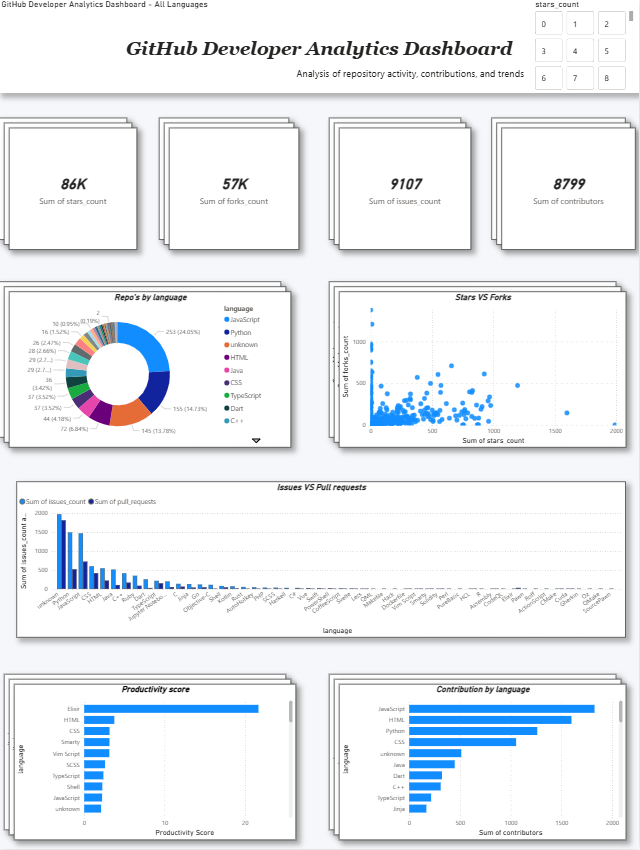

Layout of this report page (visuals, bound fields, positions):
{"tool":"powerbi","page":{"name":"Overview","canvas":[1280,1700],"ordinal":0},"visuals":[{"type":"pythonVisual","box":[1266,534,14,686],"z":0},{"type":"card","fields":{"Values":["Sum(github_dataset (2).stars_count)"]},"box":[0,237,256.1,243.8],"z":1000},{"type":"card","fields":{"Values":["Sum(github_dataset (2).forks_count)"]},"box":[320.1,237,260.1,243.8],"z":2000},{"type":"card","fields":{"Values":["Sum(github_dataset (2).contributors)"]},"box":[986.1,237,268.3,243.8],"z":3000},{"type":"card","fields":{"Values":["Sum(github_dataset (2).issues_count)"]},"box":[659.2,237,264.2,243.8],"z":4000},{"type":"textbox","box":[0,0,1280.3,188],"z":5000},{"type":"card","fields":{"Values":["Sum(github_dataset (2).contributors)"]},"box":[996.1,247,268.3,243.8],"z":6000},{"type":"card","fields":{"Values":["Sum(github_dataset (2).contributors)"]},"box":[1006.1,257,268.3,243.8],"z":7000},{"type":"card","fields":{"Values":["Sum(github_dataset (2).issues_count)"]},"box":[669.2,247,264.2,243.8],"z":8000},{"type":"card","fields":{"Values":["Sum(github_dataset (2).issues_count)"]},"box":[679.2,257,264.2,243.8],"z":9000},{"type":"card","fields":{"Values":["Sum(github_dataset (2).forks_count)"]},"box":[330.1,247,260.1,243.8],"z":10000},{"type":"card","fields":{"Values":["Sum(github_dataset (2).forks_count)"]},"box":[340.1,257,260.1,243.8],"z":11000},{"type":"card","fields":{"Values":["Sum(github_dataset (2).stars_count)"]},"box":[10,247,256.1,243.8],"z":12000},{"type":"card","fields":{"Values":["Sum(github_dataset (2).stars_count)"]},"box":[20,257,256.1,243.8],"z":13000},{"type":"donutChart","fields":{"Category":["github_dataset (2).language"],"Y":["CountNonNull(github_dataset (2).language)"]},"box":[0,566,564,312],"z":14000},{"type":"clusteredColumnChart","title":"Issues VS Pull requests ","fields":{"Category":["github_dataset (2).language"],"Y":["Sum(github_dataset (2).issues_count)","Sum(github_dataset (2).pull_requests)"]},"box":[36,964,1218,312],"z":15000},{"type":"scatterChart","fields":{"X":["Sum(github_dataset (2).stars_count)"],"Y":["Sum(github_dataset (2).forks_count)"]},"box":[660,566,574,312],"z":16000},{"type":"barChart","fields":{"Category":["github_dataset (2).repositories"],"Y":["Sum(github_dataset (2).stars_count)"]},"box":[10,1350,564,312],"z":17000},{"type":"barChart","fields":{"Category":["github_dataset (2).language"],"Y":["Sum(github_dataset (2).contributors)"]},"box":[660,1350,574,312],"z":18000},{"type":"advancedSlicerVisual","fields":{"Values":["github_dataset (2).stars_count"]},"box":[1067.2,0,206.3,187.9],"z":19000},{"type":"scatterChart","fields":{"X":["Sum(github_dataset (2).stars_count)"],"Y":["Sum(github_dataset (2).forks_count)"]},"box":[670,576,574,312],"z":20000},{"type":"scatterChart","title":"Stars VS Forks","fields":{"X":["Sum(github_dataset (2).stars_count)"],"Y":["Sum(github_dataset (2).forks_count)"],"Category":["github_dataset (2).repositories"]},"box":[680,586,574,312],"z":21000},{"type":"donutChart","fields":{"Category":["github_dataset (2).language"],"Y":["CountNonNull(github_dataset (2).language)"]},"box":[10,576,564,312],"z":22000},{"type":"donutChart","title":"Repo''s by language","fields":{"Category":["github_dataset (2).language"],"Y":["CountNonNull(github_dataset (2).repositories)"]},"box":[20,586,564,312],"z":23000},{"type":"barChart","fields":{"Category":["github_dataset (2).language"],"Y":["Sum(github_dataset (2).contributors)"]},"box":[670,1360,574,312],"z":24000},{"type":"barChart","title":"Contribution by language","fields":{"Category":["github_dataset (2).language"],"Y":["Sum(github_dataset (2).contributors)"]},"box":[680,1370,574,312],"z":25000},{"type":"barChart","fields":{"Category":["github_dataset (2).repositories"],"Y":["Sum(github_dataset (2).stars_count)"]},"box":[20,1360,564,312],"z":26000},{"type":"clusteredBarChart","title":"Productivity score","fields":{"Category":["github_dataset (2).language"],"Y":["github_dataset (2).Productivity Score"]},"box":[30,1370,564,312],"z":27000},{"type":"actionButton","box":[1179.5,187.8,100.7,39.9],"z":27002},{"type":"actionButton","box":[589.7,187.8,99.7,39.9],"z":27003},{"type":"actionButton","box":[0,187.4,99.3,40.3],"z":27004}]}

Visuals, with their boxes in screenshot pixels (x1, y1, x2, y2):
pythonVisual: pyautogui.locateOnScreen(628, 268, 635, 606)
card - Sum(github_dataset (2).stars_count): pyautogui.locateOnScreen(4, 121, 131, 241)
card - Sum(github_dataset (2).forks_count): pyautogui.locateOnScreen(162, 121, 290, 241)
card - Sum(github_dataset (2).contributors): pyautogui.locateOnScreen(490, 121, 623, 241)
card - Sum(github_dataset (2).issues_count): pyautogui.locateOnScreen(329, 121, 460, 241)
textbox: pyautogui.locateOnScreen(4, 4, 635, 97)
card - Sum(github_dataset (2).contributors): pyautogui.locateOnScreen(495, 126, 628, 246)
card - Sum(github_dataset (2).contributors): pyautogui.locateOnScreen(500, 131, 633, 251)
card - Sum(github_dataset (2).issues_count): pyautogui.locateOnScreen(334, 126, 464, 246)
card - Sum(github_dataset (2).issues_count): pyautogui.locateOnScreen(339, 131, 469, 251)
card - Sum(github_dataset (2).forks_count): pyautogui.locateOnScreen(167, 126, 295, 246)
card - Sum(github_dataset (2).forks_count): pyautogui.locateOnScreen(172, 131, 300, 251)
card - Sum(github_dataset (2).stars_count): pyautogui.locateOnScreen(9, 126, 136, 246)
card - Sum(github_dataset (2).stars_count): pyautogui.locateOnScreen(14, 131, 141, 251)
donutChart - github_dataset (2).language x CountNonNull(github_dataset (2).language): pyautogui.locateOnScreen(4, 283, 282, 437)
"Issues VS Pull requests " clusteredColumnChart: pyautogui.locateOnScreen(22, 480, 622, 633)
scatterChart - Sum(github_dataset (2).stars_count) x Sum(github_dataset (2).forks_count): pyautogui.locateOnScreen(330, 283, 613, 437)
barChart - github_dataset (2).repositories x Sum(github_dataset (2).stars_count): pyautogui.locateOnScreen(9, 670, 287, 824)
barChart - github_dataset (2).language x Sum(github_dataset (2).contributors): pyautogui.locateOnScreen(330, 670, 613, 824)
advancedSlicerVisual - github_dataset (2).stars_count: pyautogui.locateOnScreen(530, 4, 632, 97)
scatterChart - Sum(github_dataset (2).stars_count) x Sum(github_dataset (2).forks_count): pyautogui.locateOnScreen(335, 288, 618, 442)
"Stars VS Forks" scatterChart: pyautogui.locateOnScreen(340, 293, 622, 447)
donutChart - github_dataset (2).language x CountNonNull(github_dataset (2).language): pyautogui.locateOnScreen(9, 288, 287, 442)
"Repo''s by language" donutChart: pyautogui.locateOnScreen(14, 293, 292, 447)
barChart - github_dataset (2).language x Sum(github_dataset (2).contributors): pyautogui.locateOnScreen(335, 675, 618, 829)
"Contribution by language" barChart: pyautogui.locateOnScreen(340, 680, 622, 833)
barChart - github_dataset (2).repositories x Sum(github_dataset (2).stars_count): pyautogui.locateOnScreen(14, 675, 292, 829)
"Productivity score" clusteredBarChart: pyautogui.locateOnScreen(19, 680, 297, 833)
actionButton: pyautogui.locateOnScreen(586, 97, 635, 117)
actionButton: pyautogui.locateOnScreen(295, 97, 344, 117)
actionButton: pyautogui.locateOnScreen(4, 97, 53, 117)
